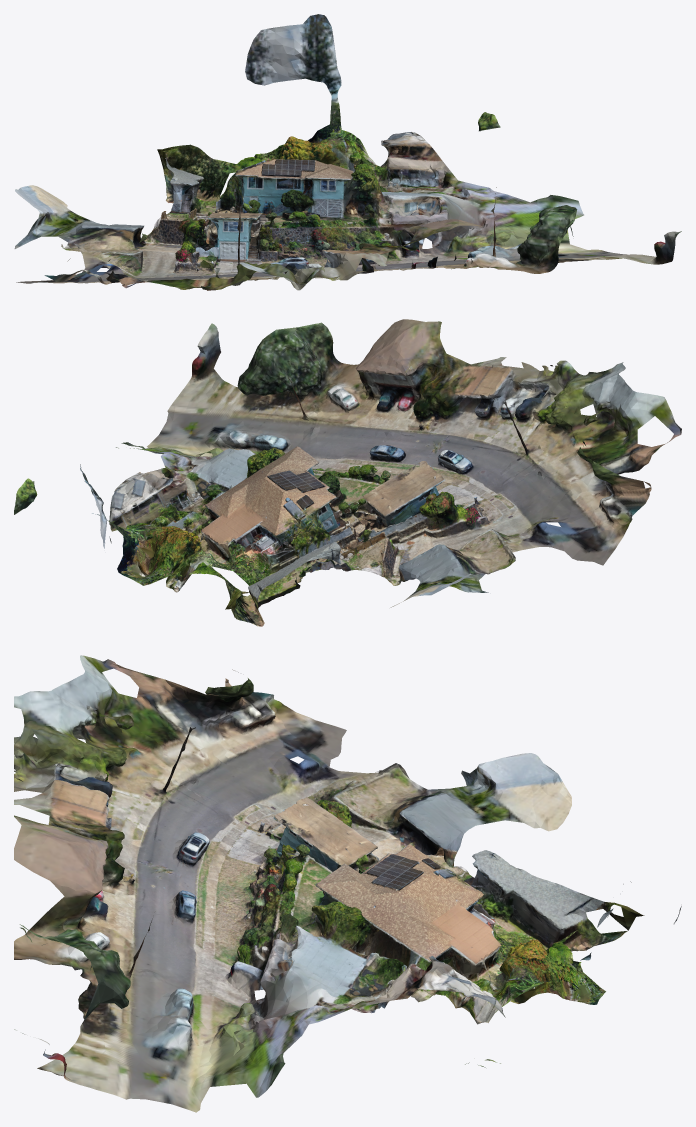
The picture shows the model from 3 angles, top to bottom: view 1: azimuth 30°, elevation 25°; view 2: azimuth 150°, elevation 25°; view 3: azimuth 270°, elevation 25°; orthographic projection. The views are drawn at different scales.
Bounding box in the file's own units: 75.77 × 18.34 × 66.26.
1 material, 1 textured.
